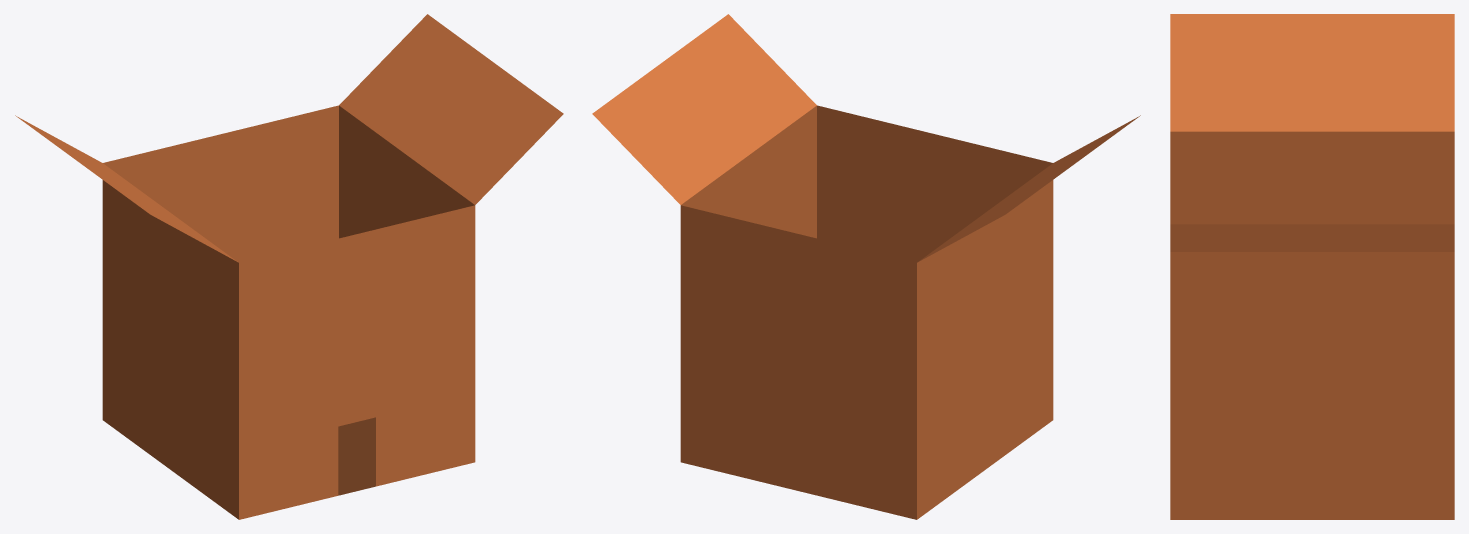
The model's file is cardboardBoxOpen.glb.
The picture shows the model from 3 angles, left to right: view 1: azimuth 30°, elevation 25°; view 2: azimuth 150°, elevation 25°; view 3: azimuth 270°, elevation 25°; orthographic projection. The views are drawn at different scales.
Parts seen in each view (by area): view 1: cardboardBoxOpen(Clone); view 2: cardboardBoxOpen(Clone); view 3: cardboardBoxOpen(Clone).
Part boxes in pixels (box(x1,y1,x2,y2)): cardboardBoxOpen(Clone): box(15, 14, 563, 519); cardboardBoxOpen(Clone): box(592, 14, 1140, 519); cardboardBoxOpen(Clone): box(1170, 14, 1454, 519).
Bounding box in the file's own units: 0.3719 × 0.281 × 0.2125.
Materials: 2 (2 with a texture image).
